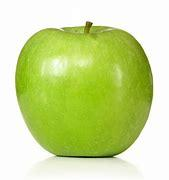apple: (5, 22, 155, 154)
